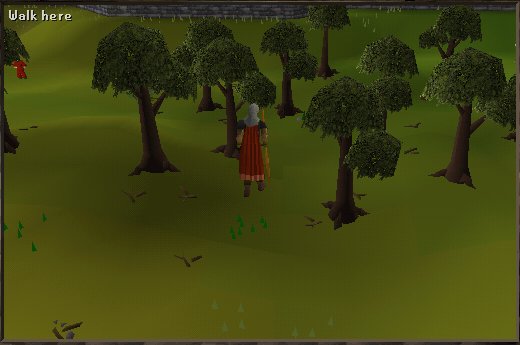Tree: (96, 28, 191, 194), (421, 68, 511, 190), (307, 81, 384, 217), (194, 29, 240, 161), (257, 18, 307, 120), (419, 8, 475, 52), (310, 0, 342, 74)
